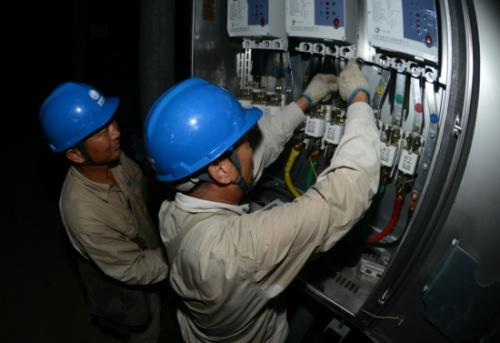gloves: (336, 58, 371, 104), (302, 72, 339, 107)
hard-hat: (143, 77, 263, 183), (39, 80, 120, 153)
person: (143, 59, 383, 343), (38, 81, 172, 343)
ppe-suit: (157, 99, 382, 343)
vest: (57, 151, 170, 343)
